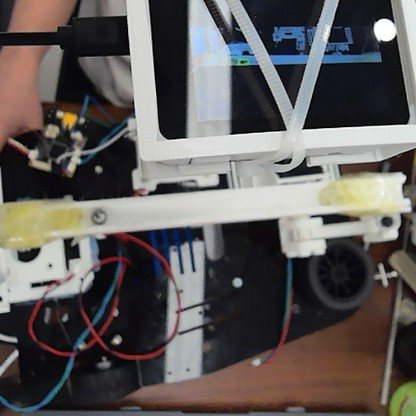ironball: (87, 204, 109, 226)
